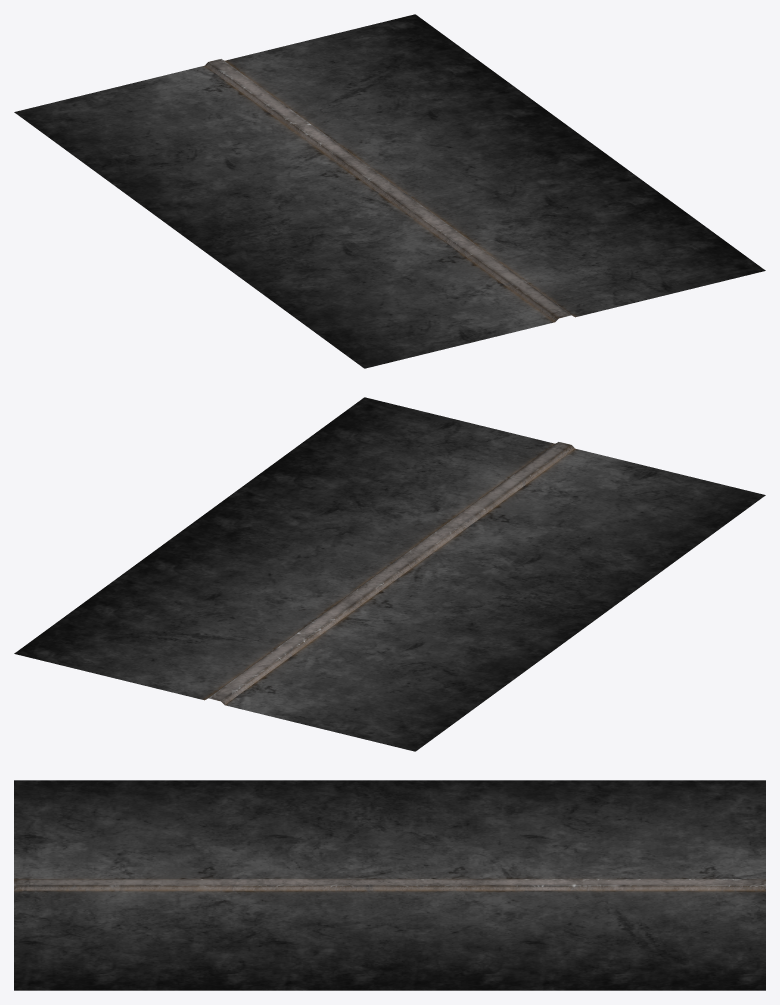
The model's file is F_Floor_2_Metro.fbx.
3 renders of one model, top to bottom at view 1: azimuth 30°, elevation 25°; view 2: azimuth 150°, elevation 25°; view 3: azimuth 270°, elevation 25°, orthographic. The views are drawn at different scales.
Visible parts, largest first — view 1: Plane.016; view 2: Plane.016; view 3: Plane.016.
Boxes of the visible parts, <box> form: Plane.016: <box>14,14,765,368</box>; Plane.016: <box>14,397,765,751</box>; Plane.016: <box>14,780,765,990</box>.
Size of the model in its own units: 10.85 by 0.0741 by 16.42.
